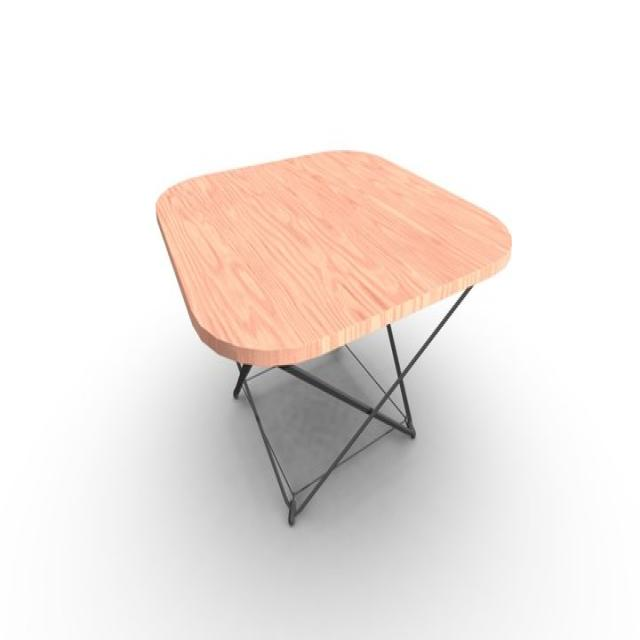table: (156, 147, 513, 528)
